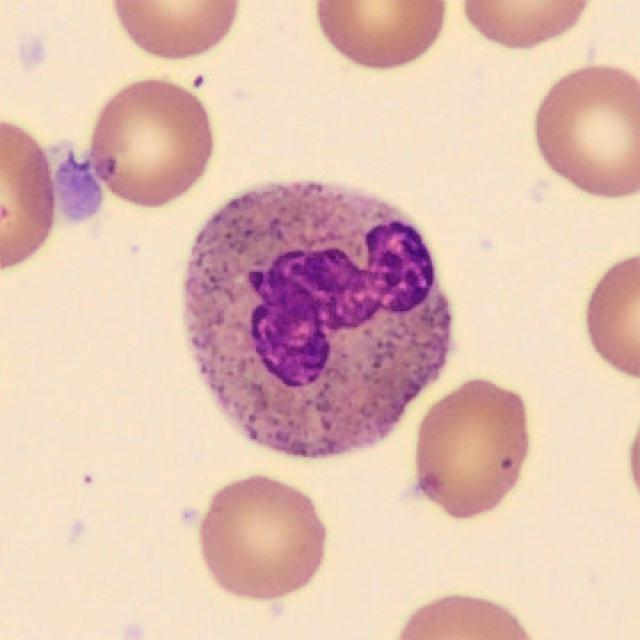Neutrofilo segmentado: (183, 183, 453, 460)
